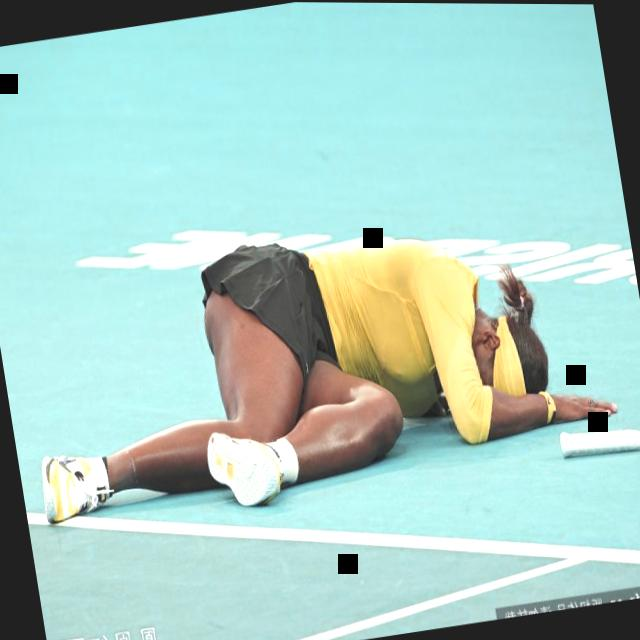Fall-Detected: (19, 171, 622, 550)
